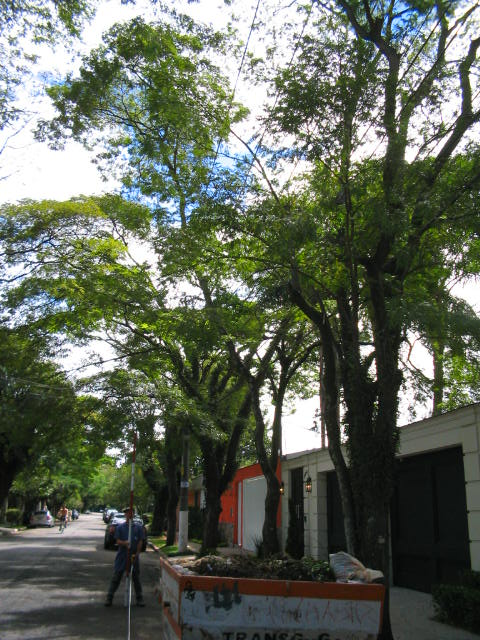stick: (117, 431, 139, 606)
